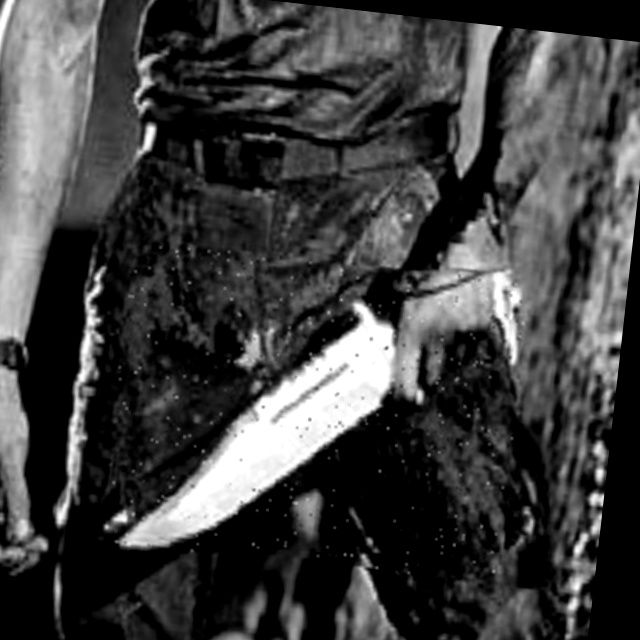Sharp-Object: (99, 239, 530, 586)
